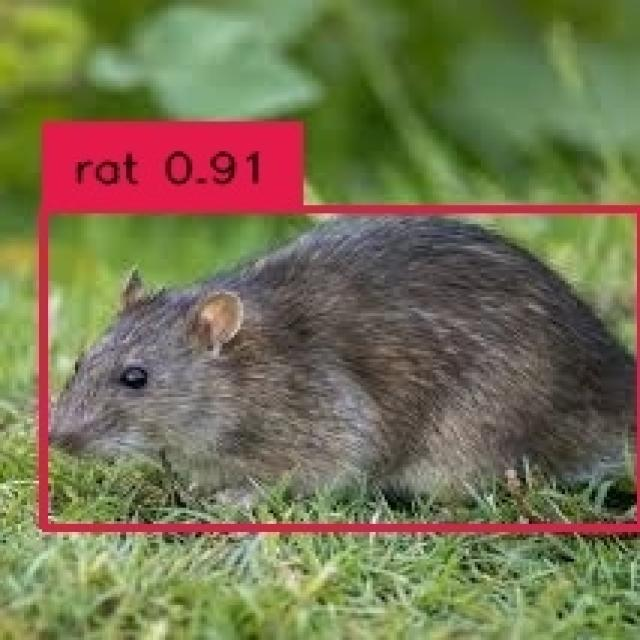rat: (39, 205, 637, 524)
